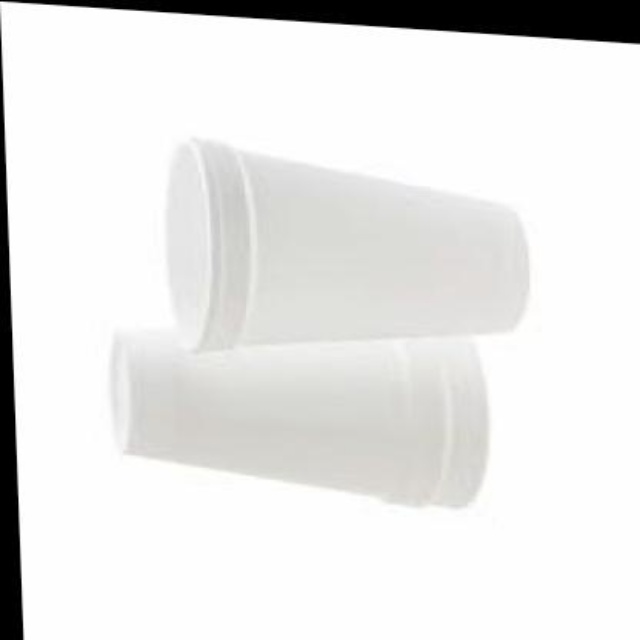trash: (114, 140, 528, 505), (168, 140, 528, 348), (112, 332, 488, 505)
